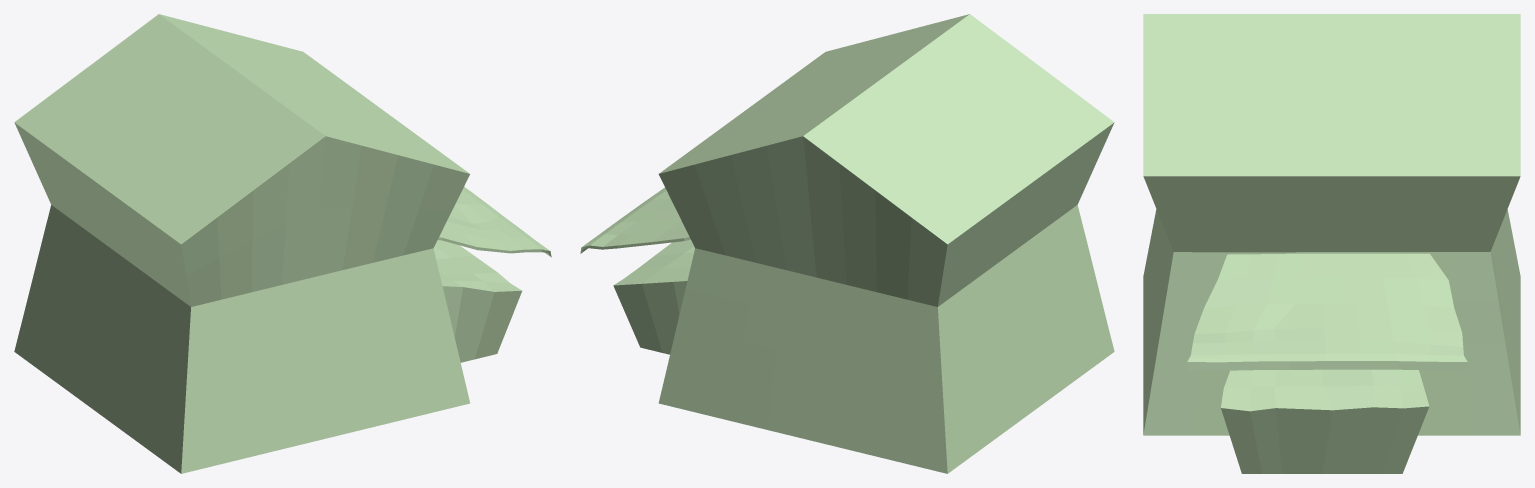
File: house-alpha.glb
3 views of the same model, side by side, from view 1: azimuth 30°, elevation 25°; view 2: azimuth 150°, elevation 25°; view 3: azimuth 270°, elevation 25° (orthographic). The views are drawn at different scales.
Parts seen in each view (by area): view 1: Cube; view 2: Cube; view 3: Cube.
Part boxes in pixels (left/top/right/bottom): Cube: left=14, top=14, right=551, bottom=473; Cube: left=580, top=14, right=1114, bottom=473; Cube: left=1143, top=14, right=1520, bottom=473.
Bounding box in the file's own units: 2.7 × 2 × 2.
